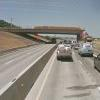Bridge: (8, 21, 99, 43)
